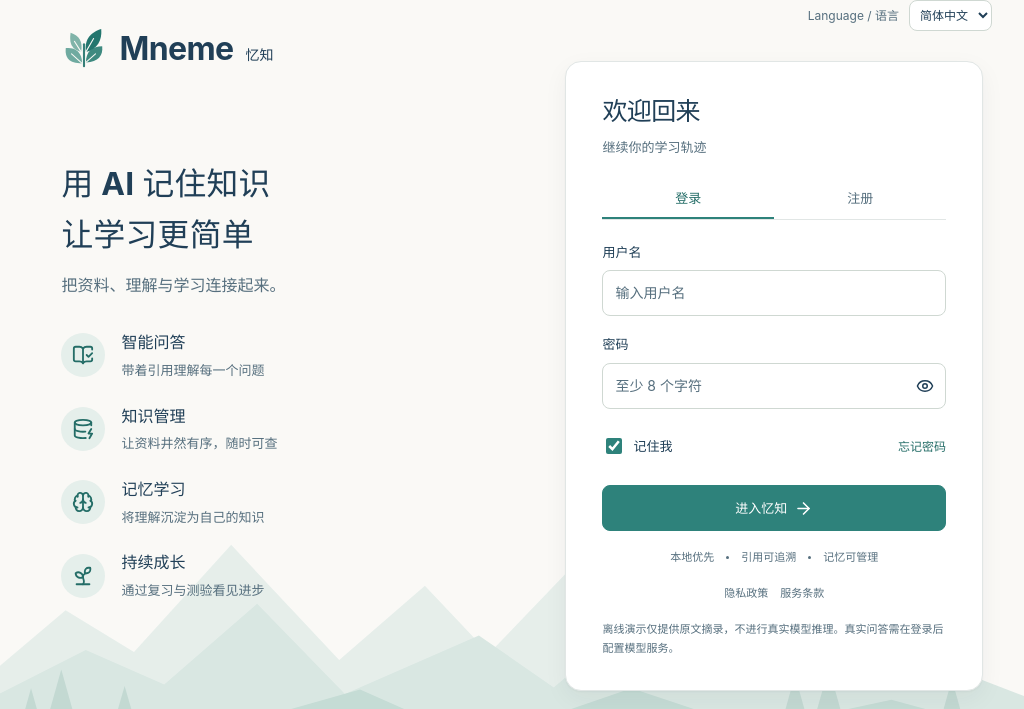
Test case: AuthPage › completes both password-reset stages with live status feedback
This screenshot has width=1024, height=709.
Click the button "忘记密码": coordinates (922, 446) [898,427,946,465]
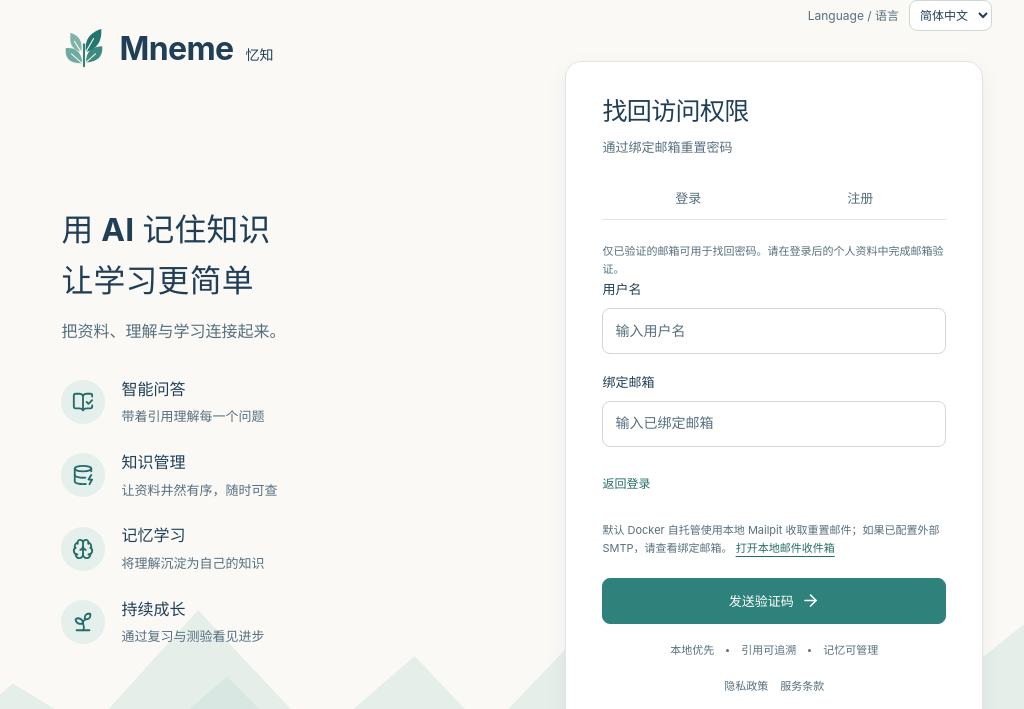
In the field labelled "用户名": coordinates (774, 331) [602,308,946,354], type "learner"
In the field labelled "绑定邮箱": coordinates (774, 424) [602,401,946,447], type "learner@example.test"
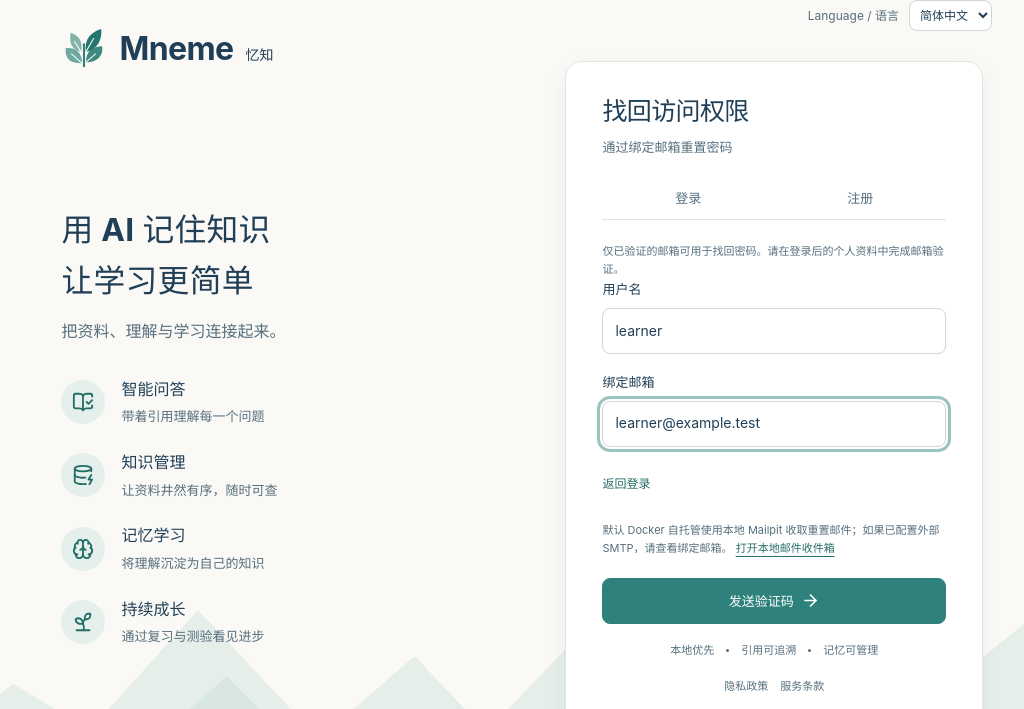
Click the button "发送验证码": coordinates (774, 601) [602,578,946,624]
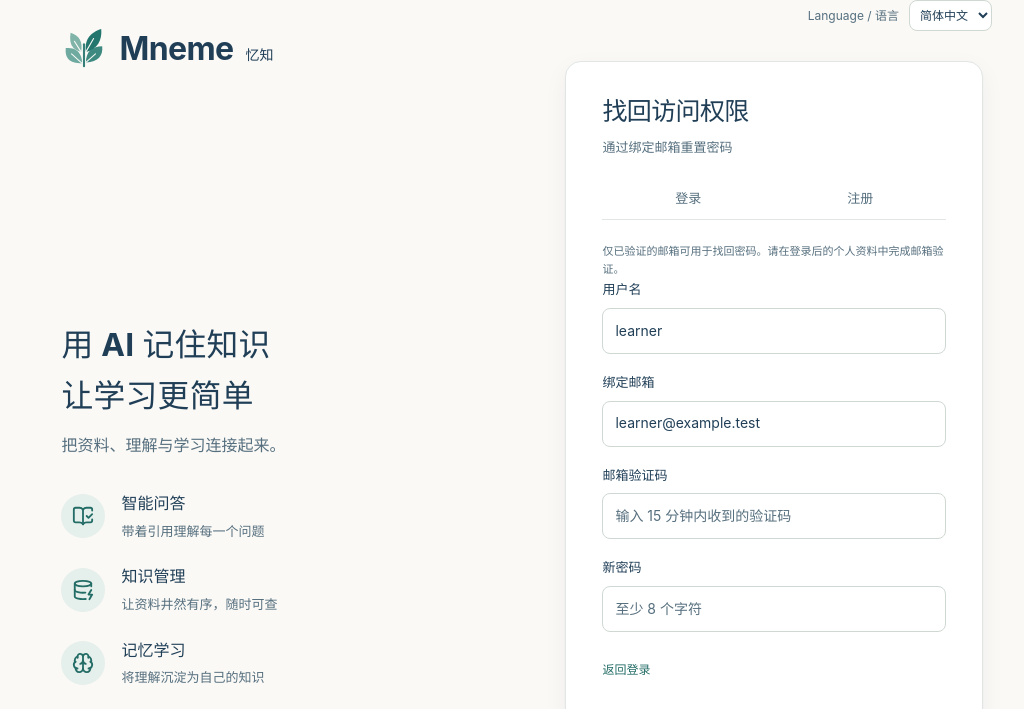
In the field labelled "邮箱验证码": coordinates (774, 516) [602,493,946,539], type "token-123"
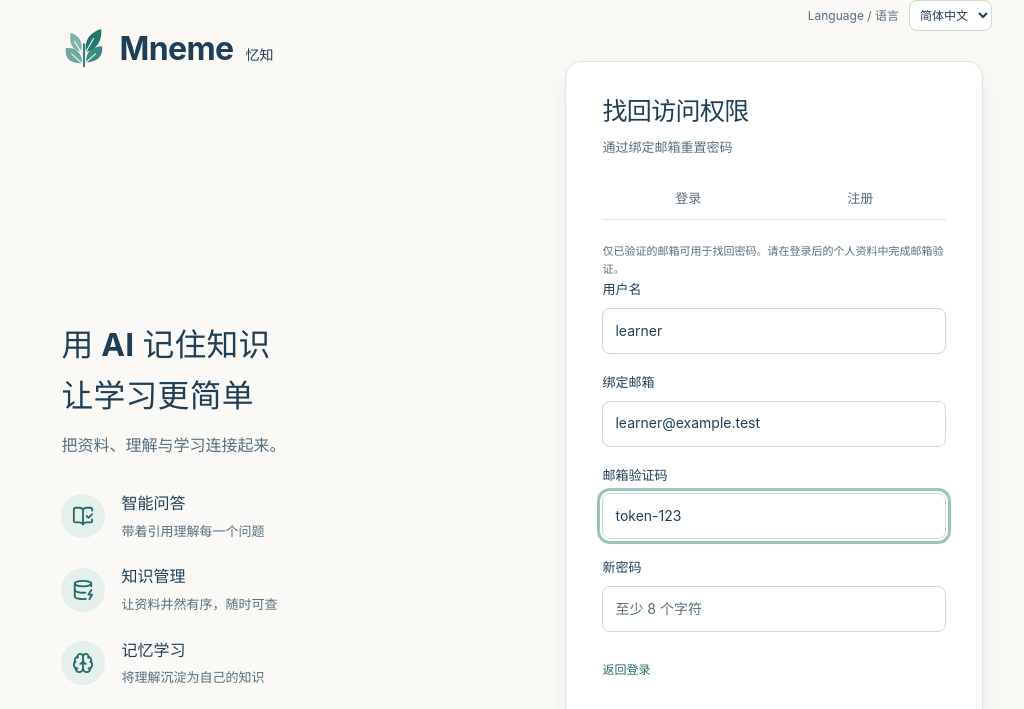
In the password field labelled "新密码": coordinates (774, 609) [602,586,946,632], type "new-password"
(page scrolled)
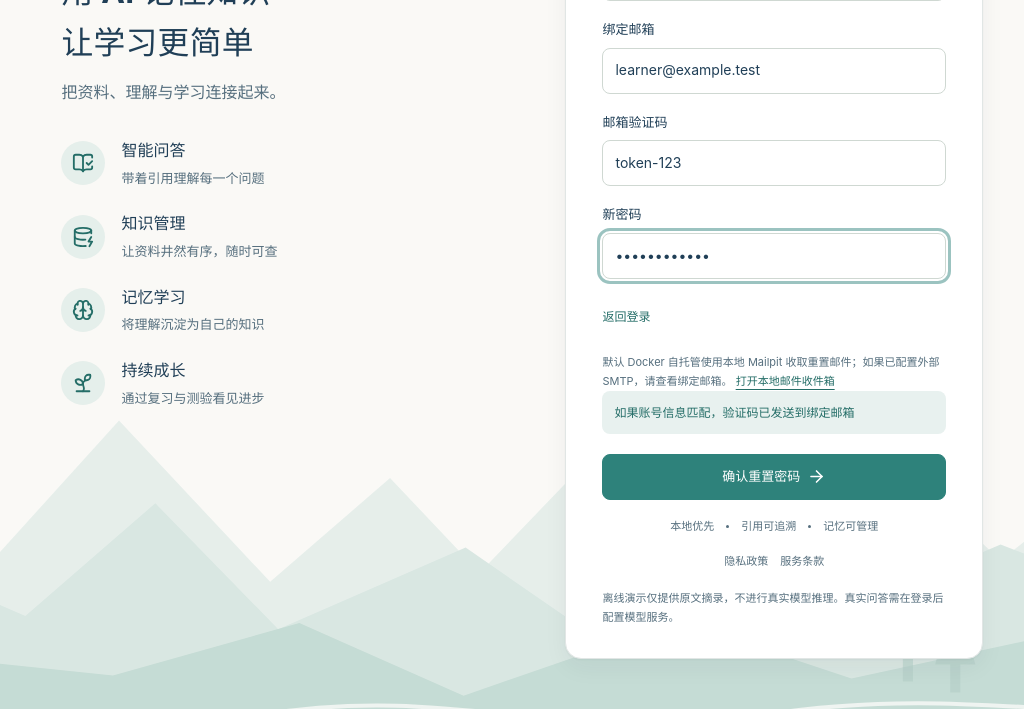
Click the button "确认重置密码": coordinates (774, 477) [602,454,946,500]
(page scrolled)
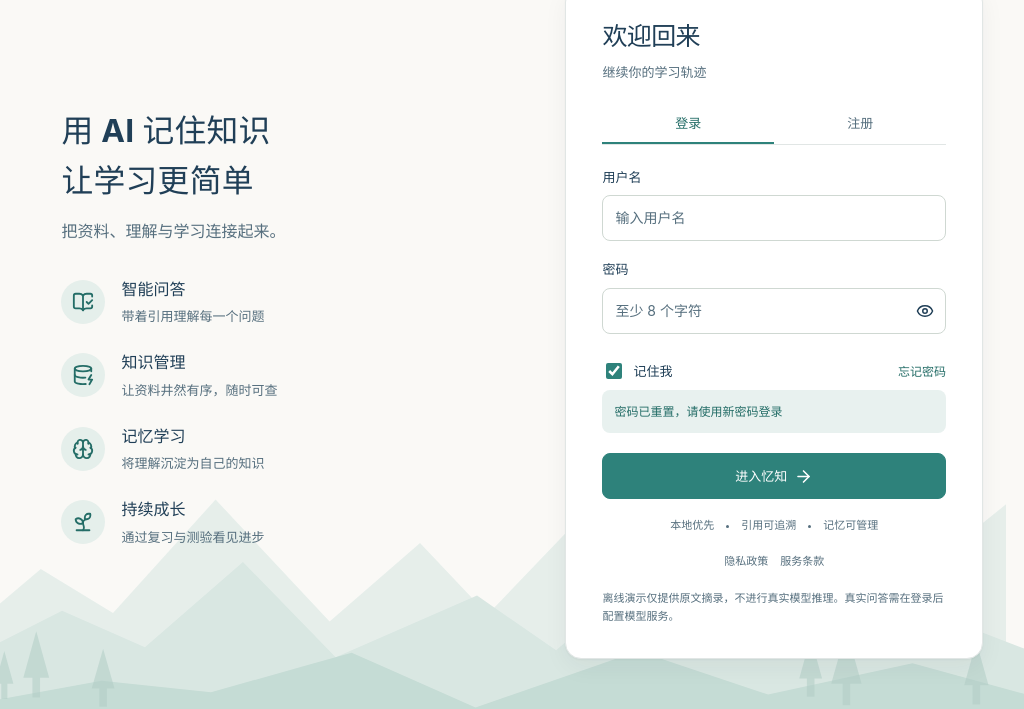
expect the message shows "密码已重置": met, box [614,404,782,419]
